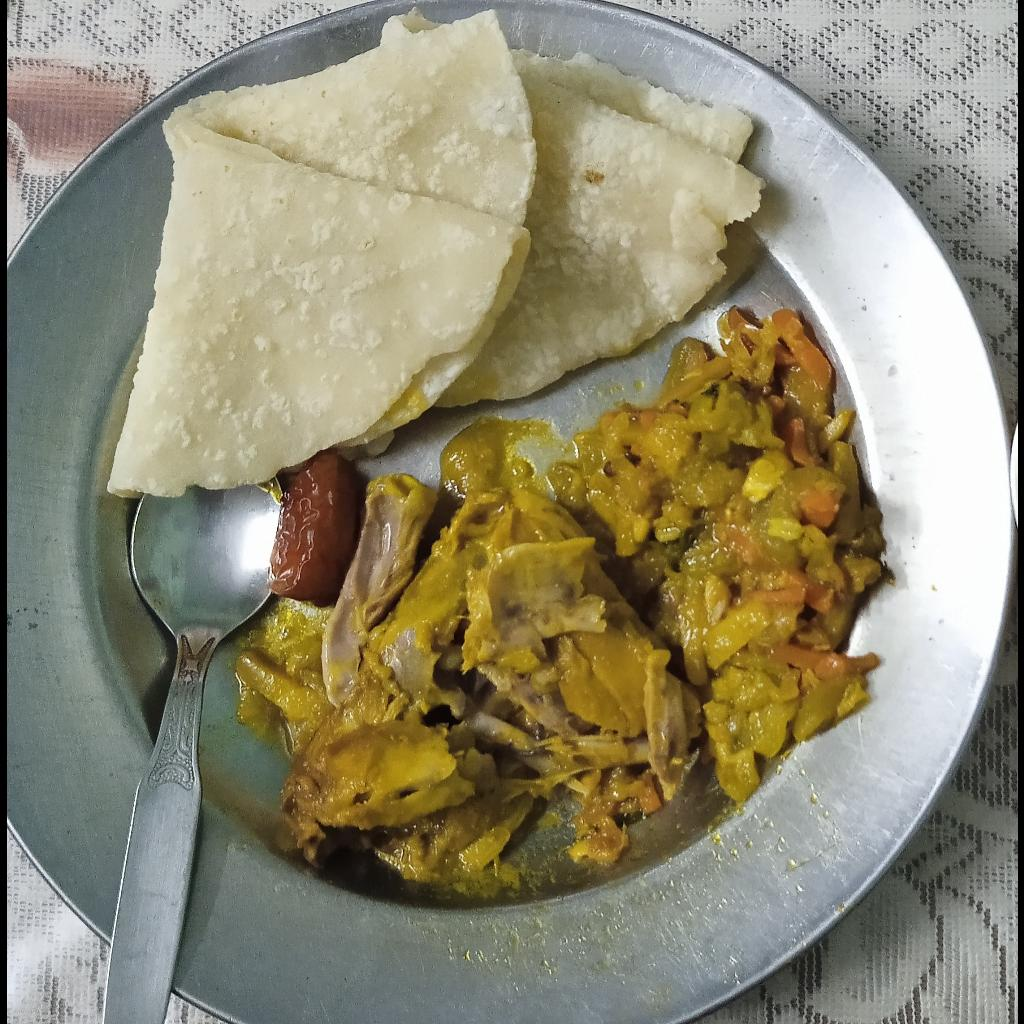chicken: (278, 472, 703, 880)
dates: (266, 456, 357, 609)
ruti: (107, 10, 762, 501)
vegetable: (545, 307, 890, 803)
